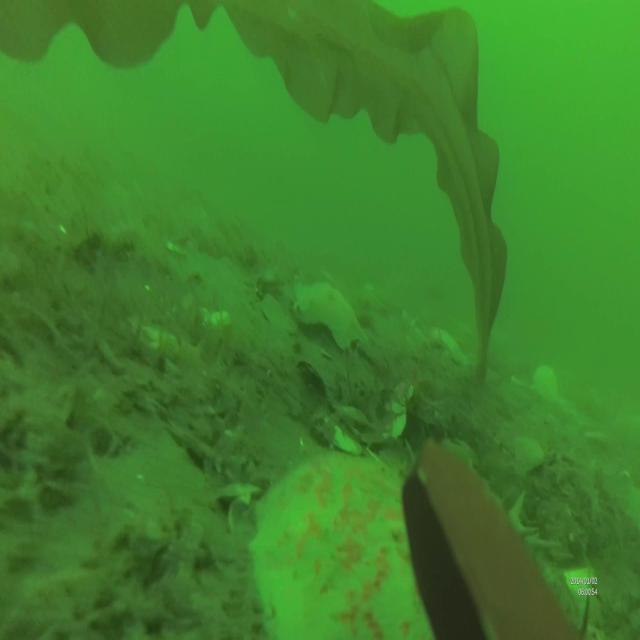starfish: (248, 445, 446, 640), (292, 280, 364, 350), (432, 326, 468, 367)
